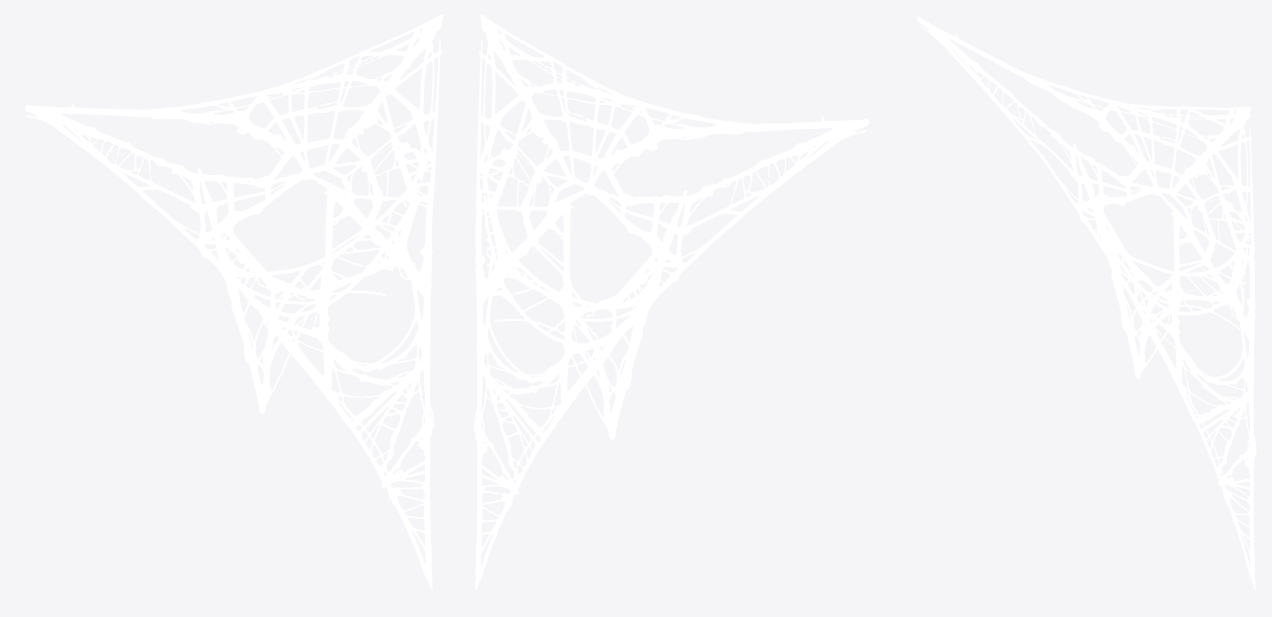
The picture shows the model from 3 angles, left to right: view 1: azimuth 30°, elevation 25°; view 2: azimuth 150°, elevation 25°; view 3: azimuth 330°, elevation 25°; orthographic projection. The views are drawn at different scales.
Parts seen in each view (by area): view 1: SM_Cob_Web_04_LOD0; view 2: SM_Cob_Web_04_LOD0; view 3: SM_Cob_Web_04_LOD0.
Boxes of the visible parts, bbox=[...] form: SM_Cob_Web_04_LOD0: bbox=[25, 14, 443, 588]; SM_Cob_Web_04_LOD0: bbox=[473, 14, 868, 589]; SM_Cob_Web_04_LOD0: bbox=[917, 16, 1256, 589].
Bounding box in the file's own units: 2 × 2.72 × 0.2204.
Materials: 1 (1 with a texture image).
